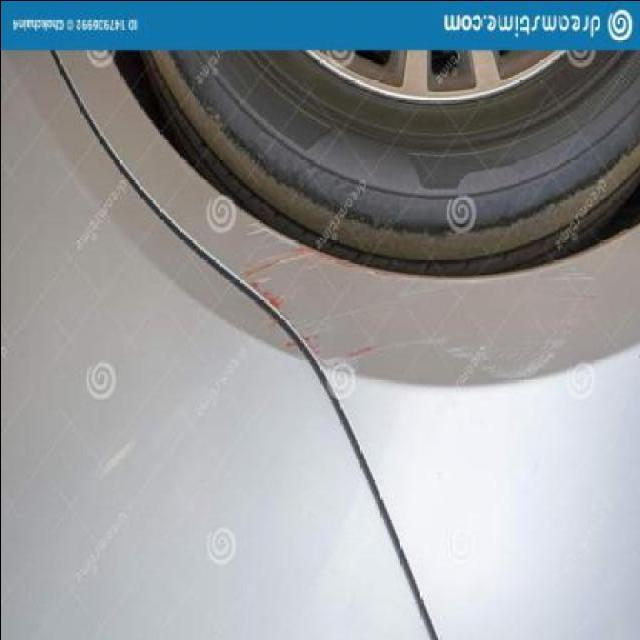doorouter-dent: (1, 140, 355, 637)
fender-dent: (334, 125, 640, 640)
